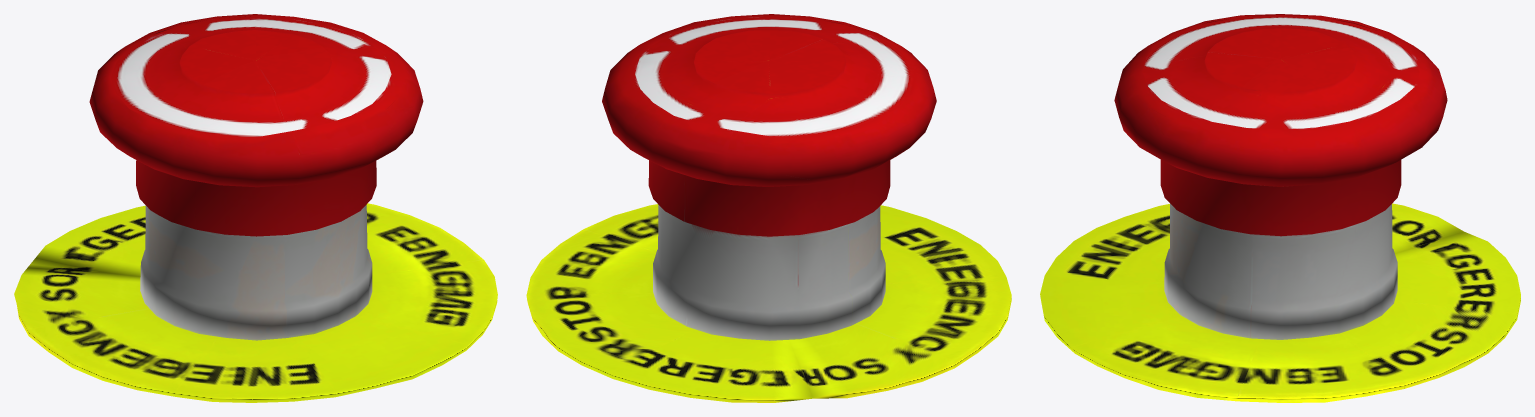
File: critical_button-v2.glb
3 views of the same model, side by side, from view 1: azimuth 30°, elevation 25°; view 2: azimuth 150°, elevation 25°; view 3: azimuth 270°, elevation 25° (orthographic).
Size of the model in its own units: 1 by 0.5566 by 0.998.
Materials: 1 (1 with a texture image).
